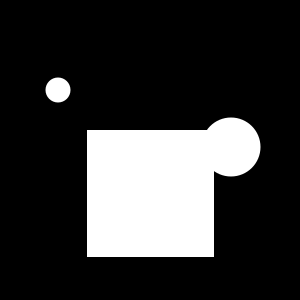circle: (87, 130, 214, 257)
rectangle: (202, 118, 260, 176), (46, 77, 70, 102)
triangle: (124, 162, 179, 217)
